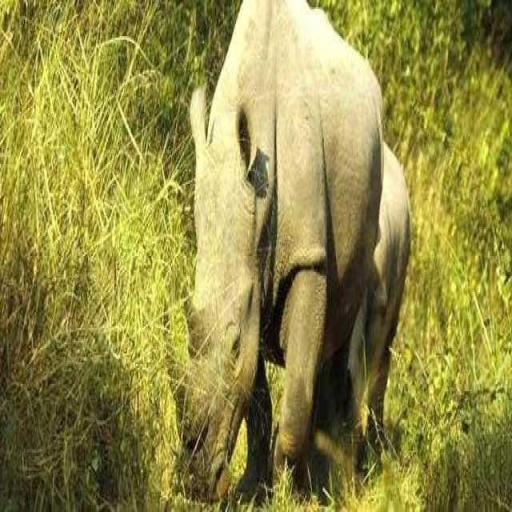Rhino: (176, 0, 411, 505)
